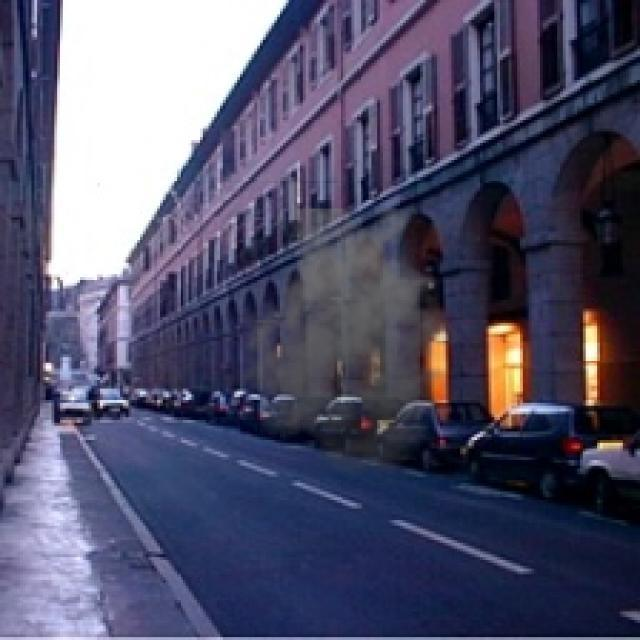Smoke: (235, 208, 474, 478)
